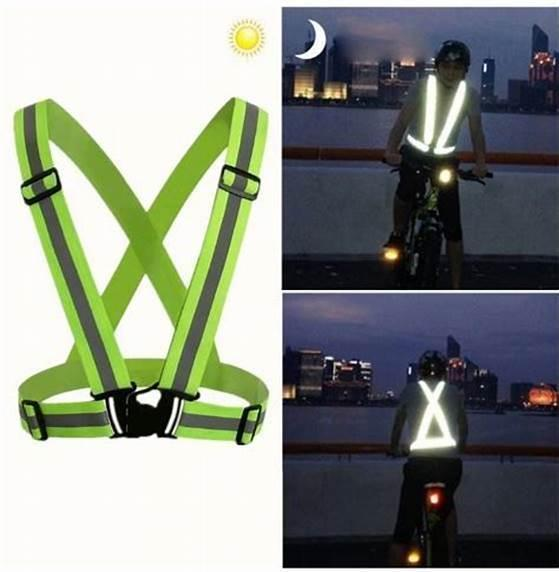Vest: (409, 75, 468, 154), (408, 376, 464, 455)
